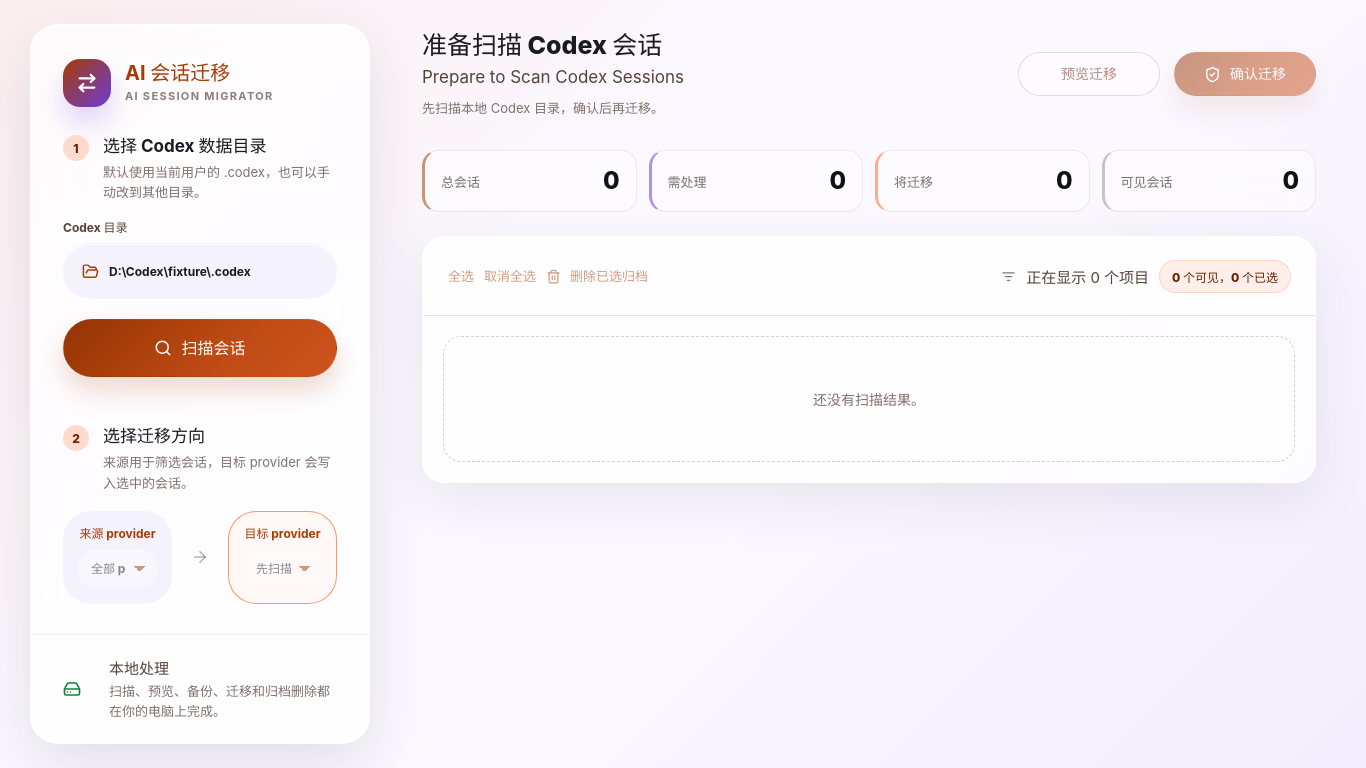
Test: shows codex catalog repair action after scan
Expected: the field showing "D:\\Codex\\fixture\\.codex" is shown, [109,264,321,279]
Step 1. Click the button "扫描会话" → (200, 348), box [63,319,337,377]
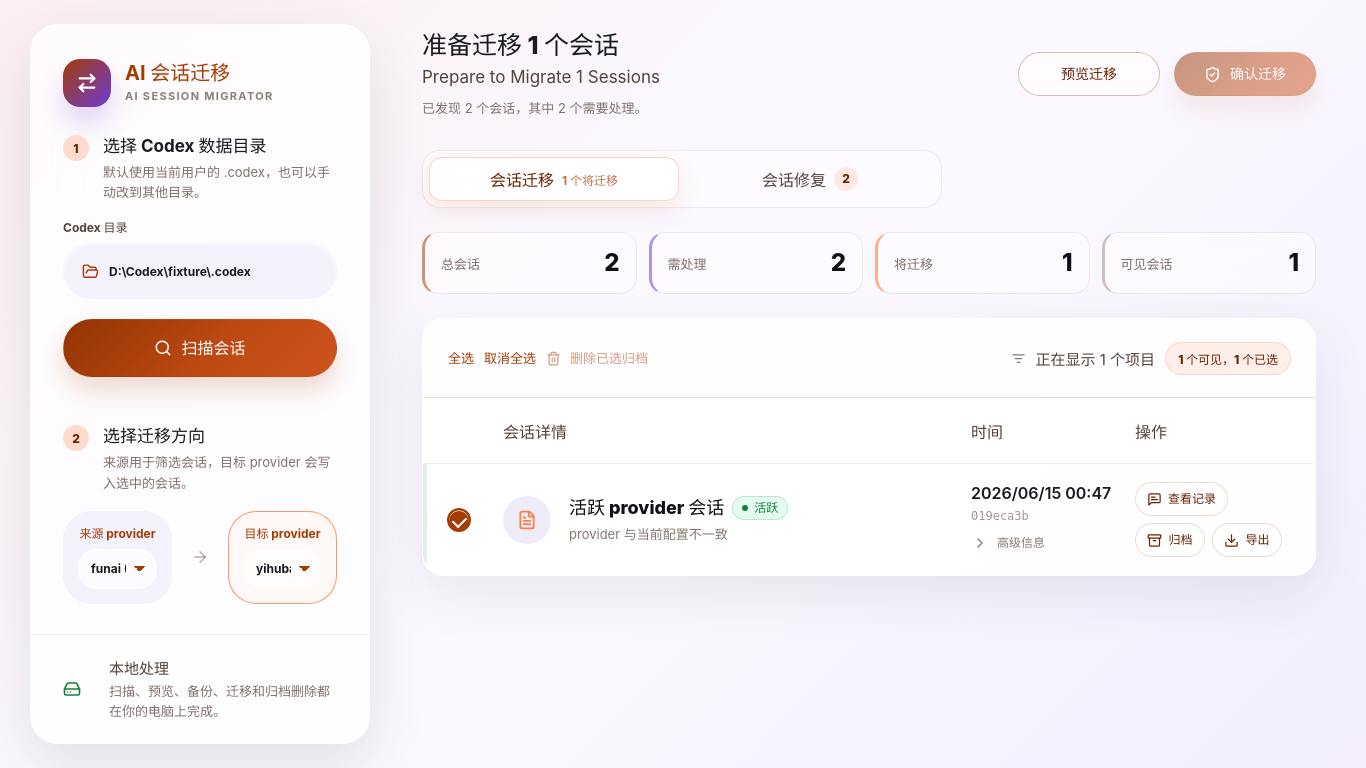
Expected: the element "修复 Codex 会话可见性" is not shown
Expected: the tab "会话修复 2" is shown
Expected: the element "活跃 provider 会话" is shown, [423,464,1315,575]
Step 2. Click the tab "会话修复 2" → (810, 179), box [685,157,935,201]
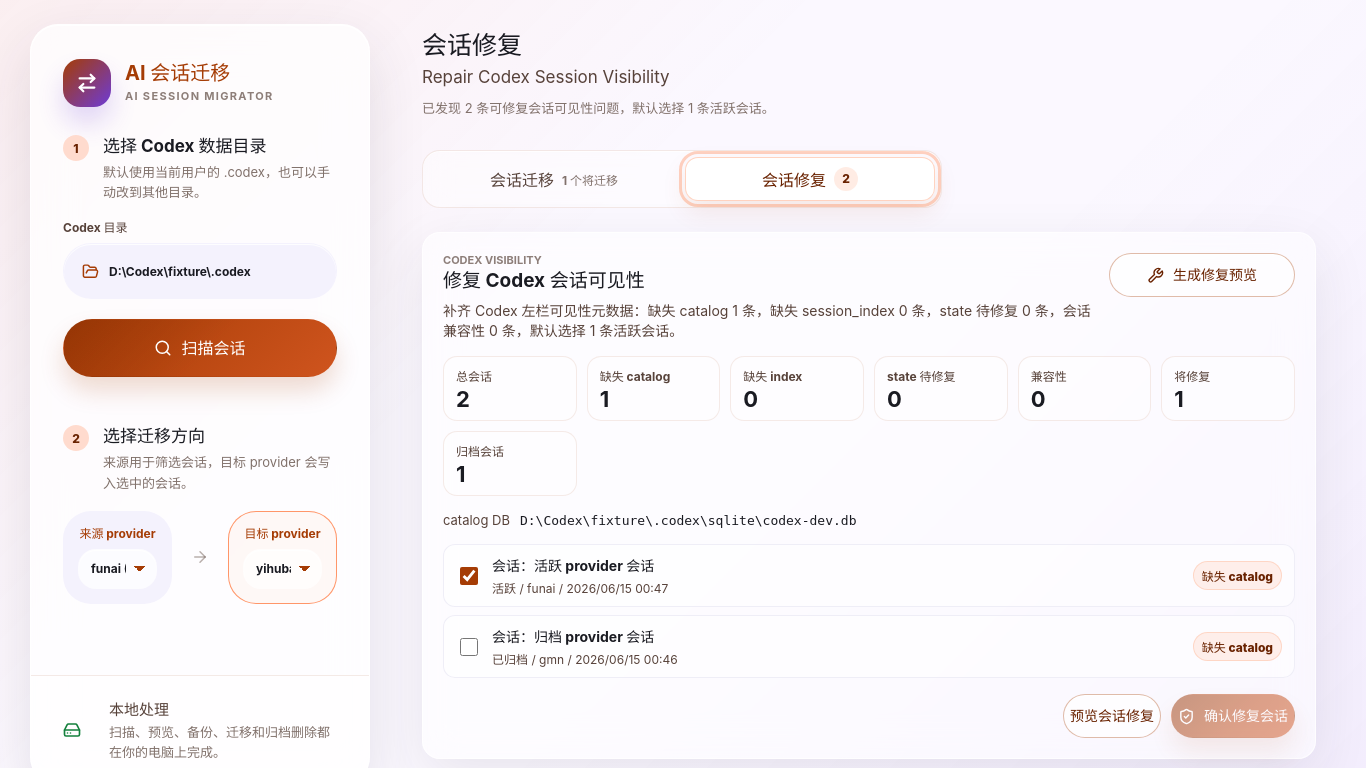
Expected: the element "修复 Codex 会话可见性" is shown, [422,232,1316,759]
Expected: the heading "修复 Codex 会话可见性" is shown, [443,269,645,292]
Expected: the button "预览会话修复" is enabled, [1063,694,1161,738]
